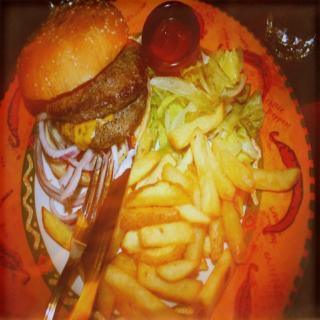French fries: (39, 72, 302, 320)
Hamburger: (17, 0, 148, 184)
